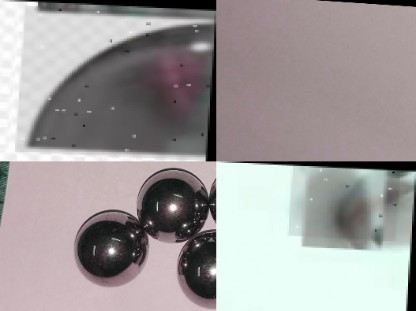ironball: (17, 5, 215, 159), (71, 211, 148, 286), (137, 165, 209, 242), (334, 169, 406, 245), (179, 230, 212, 304)
